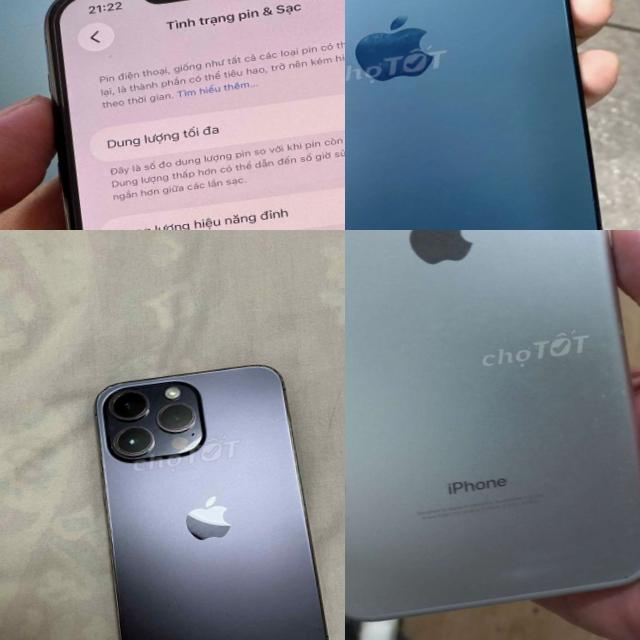gen_11: (19, 0, 345, 230)
gen_12_13: (345, 0, 619, 230)
gen_14: (82, 354, 343, 640)
gen_7_8: (345, 230, 640, 620)
